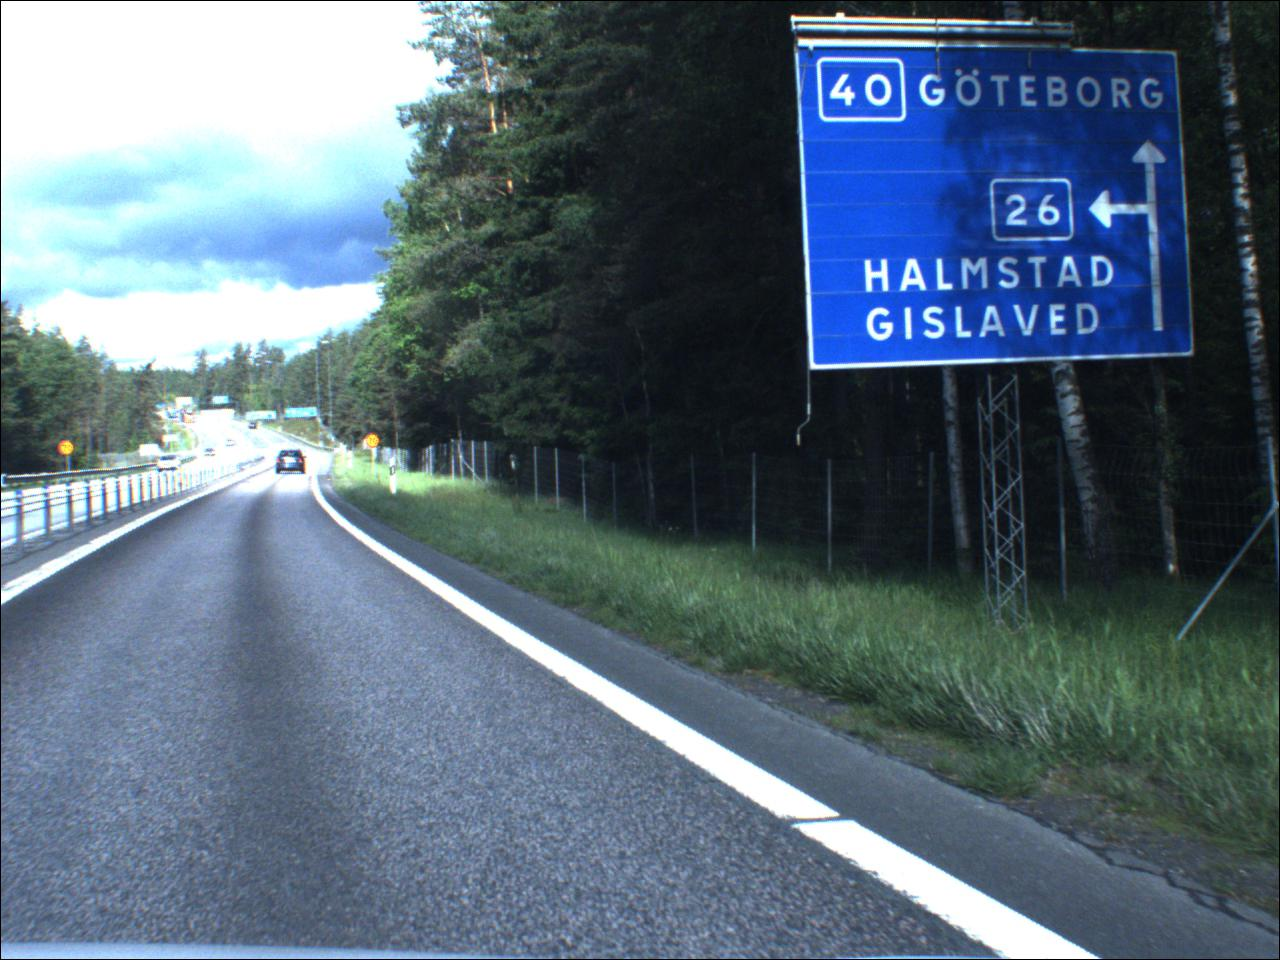70_SIGN: (60, 441, 77, 458), (367, 435, 382, 451)
